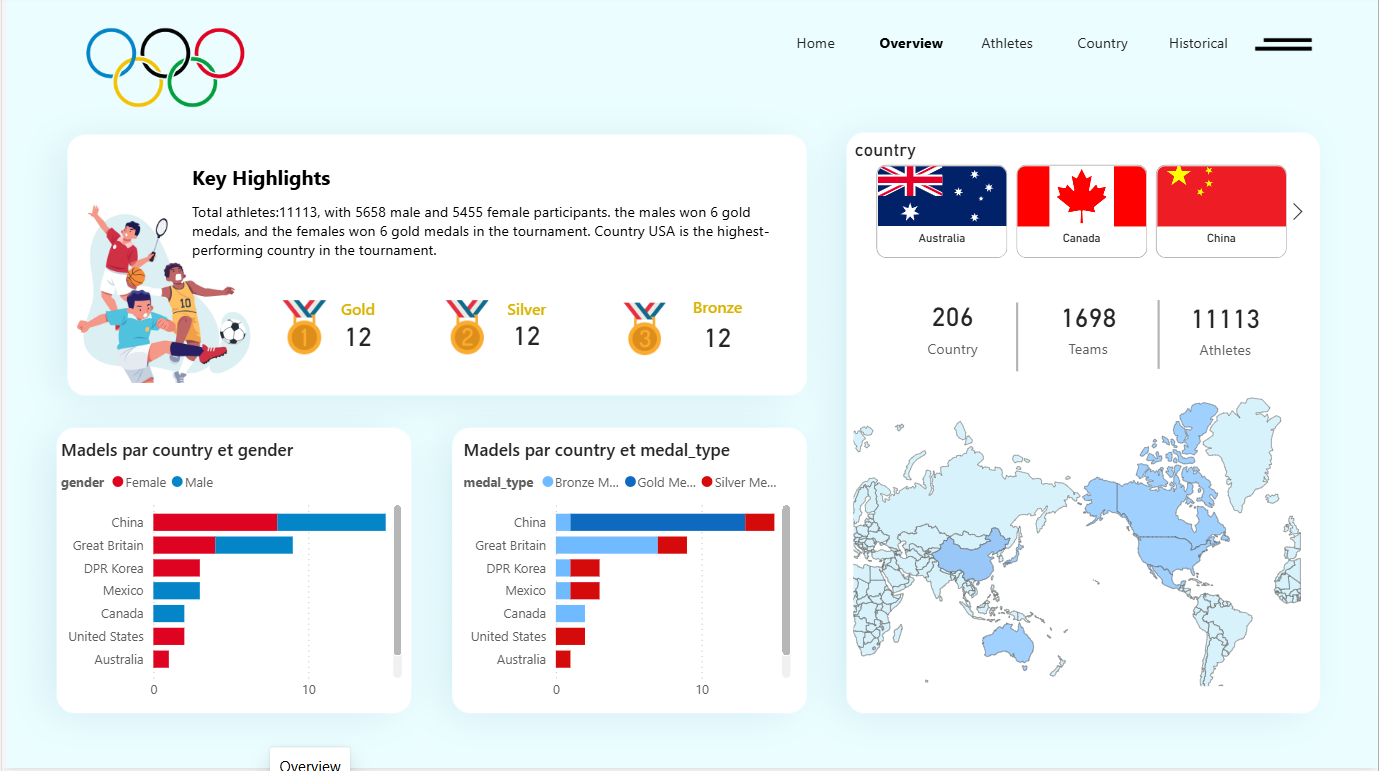

Layout of this report page (visuals, bound fields, positions):
{"tool":"powerbi","page":{"name":"Overview","canvas":[1280,720],"ordinal":1},"visuals":[{"type":"actionButton","box":[1163.4,18.8,56.4,47],"z":500},{"type":"card","title":"Silver","fields":{"Values":["Olympic_Measures.Total_Silver_Madels"]},"box":[452.9,281.4,71.4,50],"z":3000},{"type":"card","title":"Bronze","fields":{"Values":["Olympic_Measures.Total_Bronze_Madels"]},"box":[628.6,280,72.9,55.7],"z":4000},{"type":"card","title":"Gold","fields":{"Values":["Olympic_Measures.Total_Gold_Madels"]},"box":[291.4,281.4,78.6,51.4],"z":4500},{"type":"shapeMap","fields":{"Category":["medallists.country"],"Value":["Olympic_Measures.Total_Madels"]},"box":[787.1,360,432.9,287.1],"z":6000},{"type":"barChart","fields":{"Category":["medallists.country"],"Series":["medallists.gender"],"Y":["Olympic_Measures.Total_Madels"]},"box":[50,411.4,327.1,252.9],"z":7000},{"type":"barChart","fields":{"Category":["medallists.country"],"Series":["medallists.medal_type"],"Y":["Olympic_Measures.Total_Madels"]},"box":[424.3,411.4,314.3,252.9],"z":8000},{"type":"card","fields":{"Values":["Olympic_Measures.Country_Playing"]},"box":[824.3,265.7,120,82.9],"z":9000},{"type":"card","fields":{"Values":["Olympic_Measures.Playing_Teams"]},"box":[944.3,265.7,132.9,84.3],"z":10000},{"type":"card","fields":{"Values":["Olympic_Measures.Total_Athletes"]},"box":[1077.1,272.9,122.9,71.4],"z":11000},{"type":"shape","box":[768.6,285.7,351.4,64.3],"z":12000},{"type":"shape","box":[1021.4,284.3,110,64.3],"z":13000},{"type":"image","box":[246.5,279.1,69.8,60.5],"z":14000},{"type":"image","box":[565.7,281.4,62.9,58.6],"z":15000},{"type":"image","title":"21 Image","box":[400,278.6,65.7,60],"z":16000},{"type":"image","box":[49.4,185.2,207.2,181.1],"z":17000},{"type":"shape","box":[177,153.7,550.3,130.4],"z":18000},{"type":"shape","box":[177,153.7,540.7,31.6],"z":19000},{"type":"image","box":[67.4,0,170.9,133.7],"z":20000},{"type":"advancedSlicerVisual","fields":{"Values":["medallists.country"]},"box":[788.6,134.3,432.9,117.1],"z":20500},{"type":"pageNavigator","box":[717.4,18.8,439.3,49.7],"z":21000}]}

Visuals, with their boxes in screenshot pixels (x1, y1, x2, y2), scaled from the page's 1280x720 canvas onto the 1383x771 screenshot:
actionButton: x1=1257 y1=20 x2=1318 y2=70
"Silver" card: x1=489 y1=301 x2=566 y2=355
"Bronze" card: x1=679 y1=300 x2=758 y2=359
"Gold" card: x1=315 y1=301 x2=400 y2=356
shapeMap - medallists.country x Olympic_Measures.Total_Madels: x1=850 y1=386 x2=1318 y2=693
barChart - medallists.country x medallists.gender: x1=54 y1=441 x2=407 y2=711
barChart - medallists.country x medallists.medal_type: x1=458 y1=441 x2=798 y2=711
card - Olympic_Measures.Country_Playing: x1=891 y1=285 x2=1020 y2=373
card - Olympic_Measures.Playing_Teams: x1=1020 y1=285 x2=1164 y2=375
card - Olympic_Measures.Total_Athletes: x1=1164 y1=292 x2=1297 y2=369
shape: x1=830 y1=306 x2=1210 y2=375
shape: x1=1104 y1=304 x2=1222 y2=373
image: x1=266 y1=299 x2=342 y2=364
image: x1=611 y1=301 x2=679 y2=364
"21 Image" image: x1=432 y1=298 x2=503 y2=363
image: x1=53 y1=198 x2=277 y2=392
shape: x1=191 y1=165 x2=786 y2=304
shape: x1=191 y1=165 x2=775 y2=198
image: x1=73 y1=0 x2=257 y2=143
advancedSlicerVisual - medallists.country: x1=852 y1=144 x2=1320 y2=269
pageNavigator: x1=775 y1=20 x2=1250 y2=73
